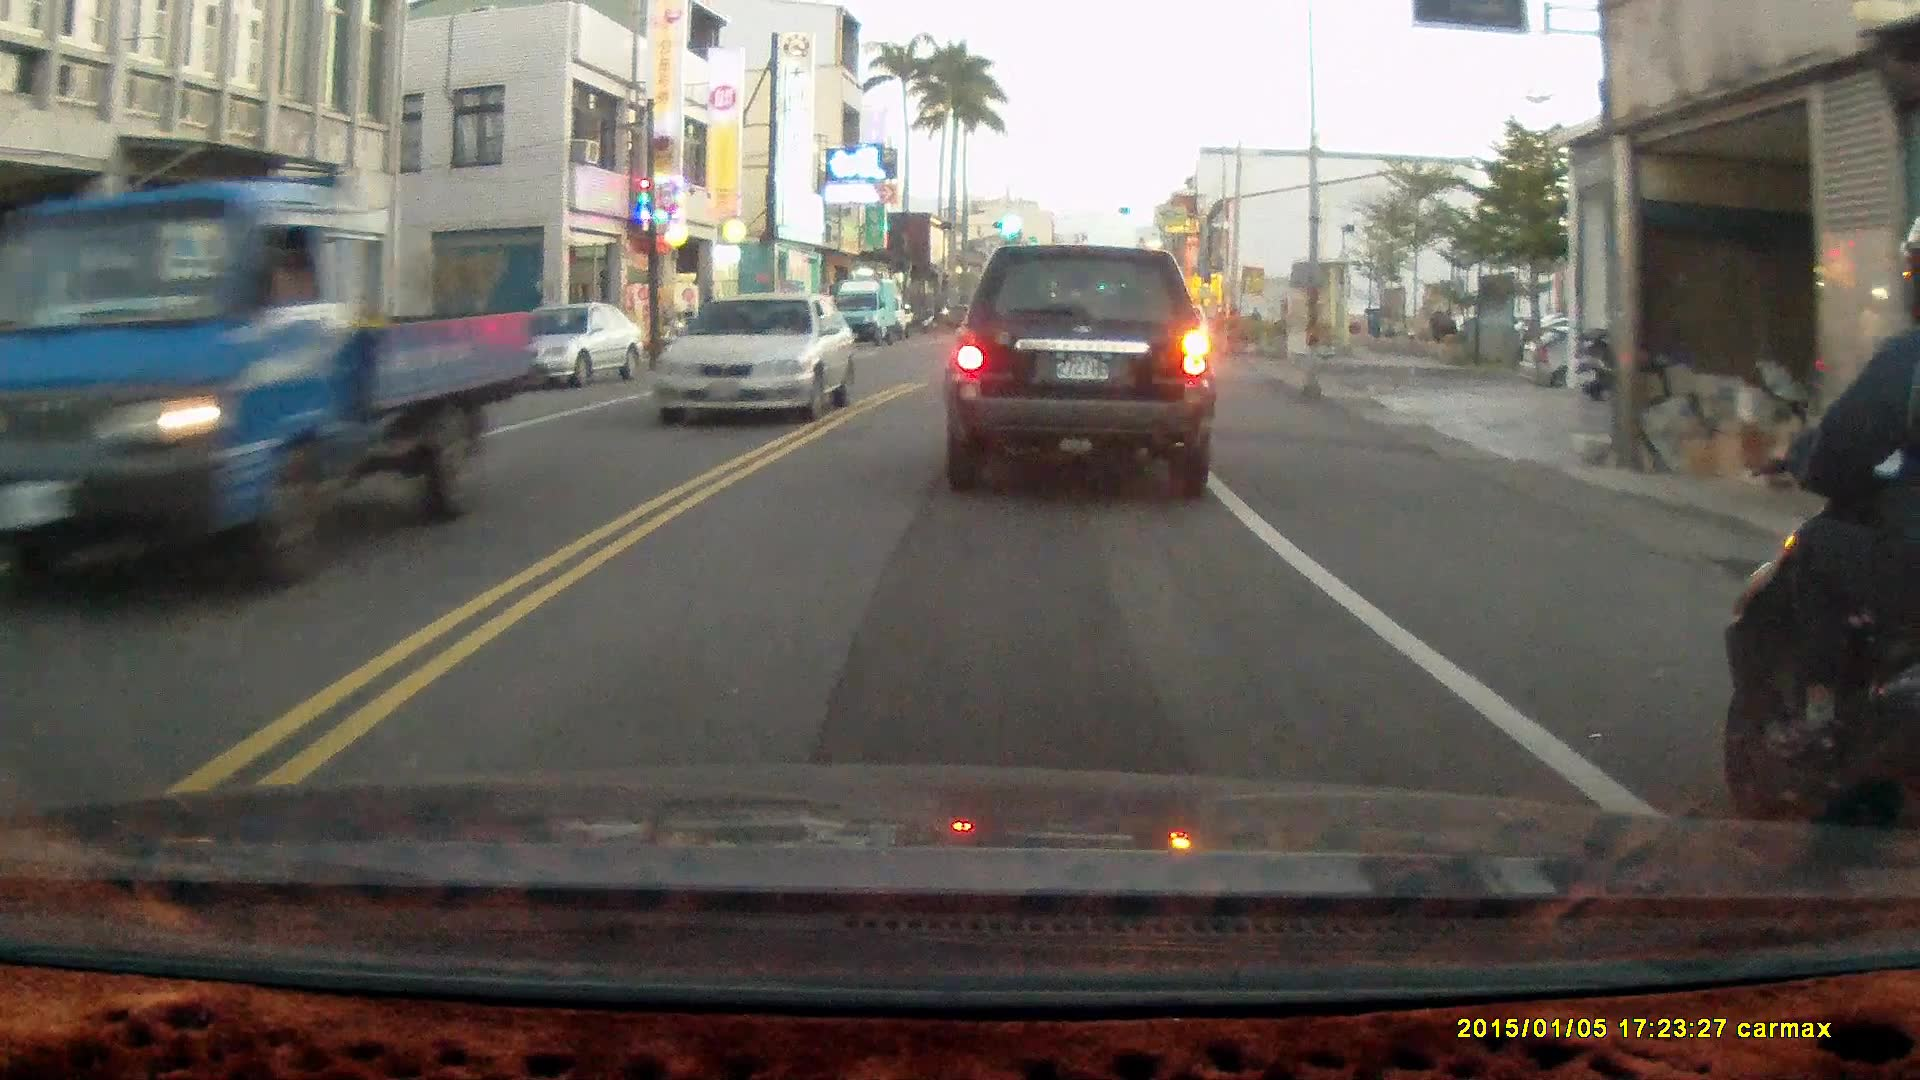rider: (1723, 220, 1920, 905)
vehicle: (1, 174, 528, 593), (940, 243, 1213, 492), (654, 292, 856, 426), (1513, 318, 1709, 399), (484, 299, 646, 391), (825, 274, 912, 347)
